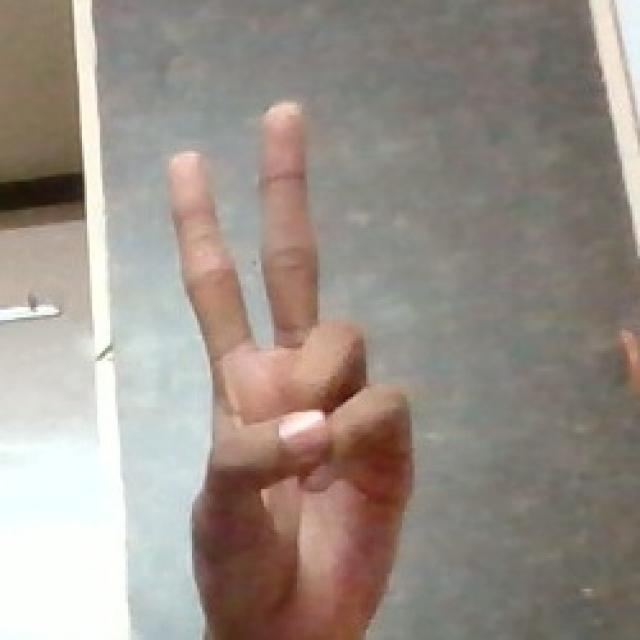Numeric-2: (161, 95, 412, 617)
